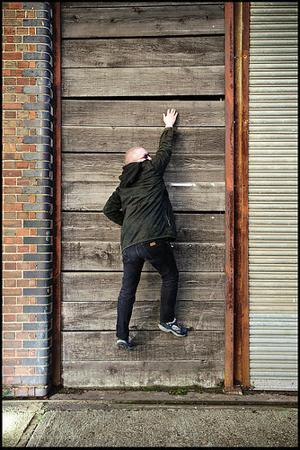person: (103, 109, 188, 353)
